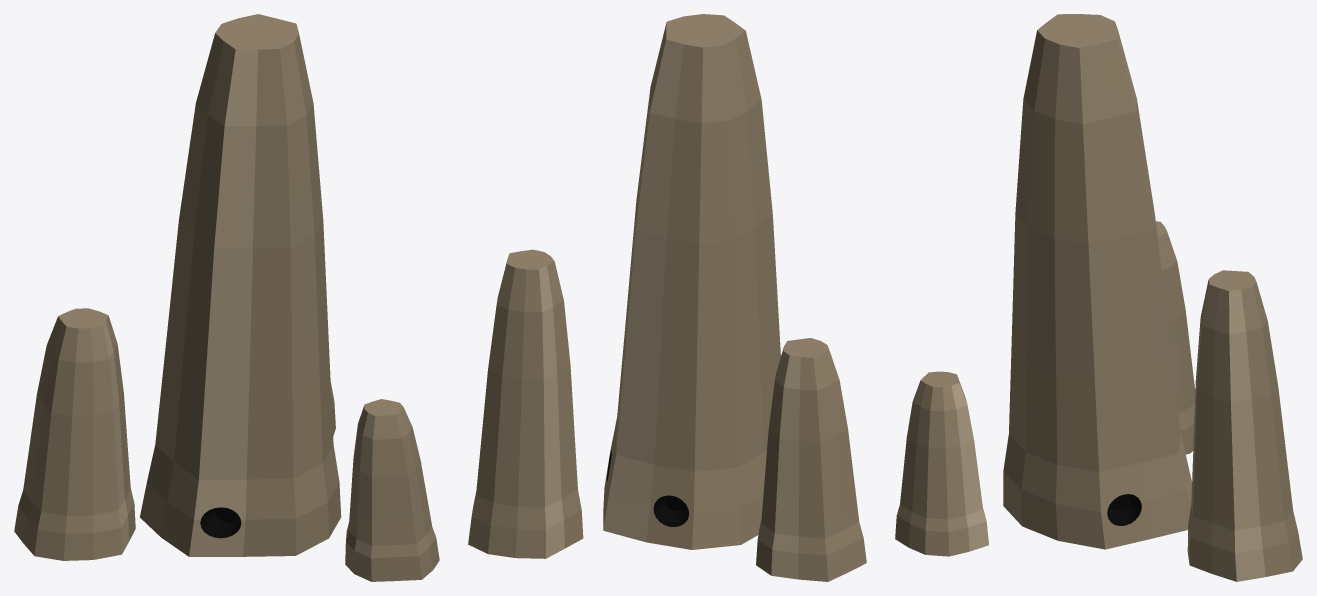
Rendered from SM_SpireColony_1.fbx.
The picture shows the model from 3 angles, left to right: view 1: azimuth 30°, elevation 25°; view 2: azimuth 150°, elevation 25°; view 3: azimuth 270°, elevation 25°; orthographic projection. The views are drawn at different scales.
Parts seen in each view (by area): view 1: SM_SpireColony_1; view 2: SM_SpireColony_1; view 3: SM_SpireColony_1.
Part boxes in pixels (x1,y1,x2,y2): SM_SpireColony_1: [14, 14, 439, 581]; SM_SpireColony_1: [468, 14, 866, 581]; SM_SpireColony_1: [895, 14, 1302, 581].
Bounding box in the file's own units: 3.33 × 3.41 × 4.4.
